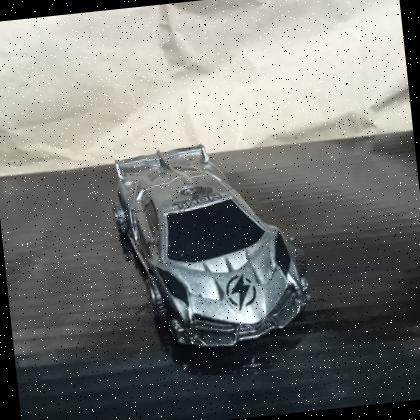Car: (113, 146, 312, 347)
